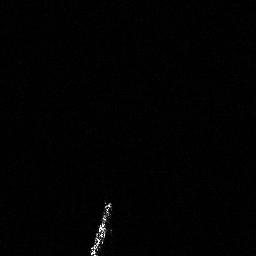ship: (87, 198, 114, 256)
